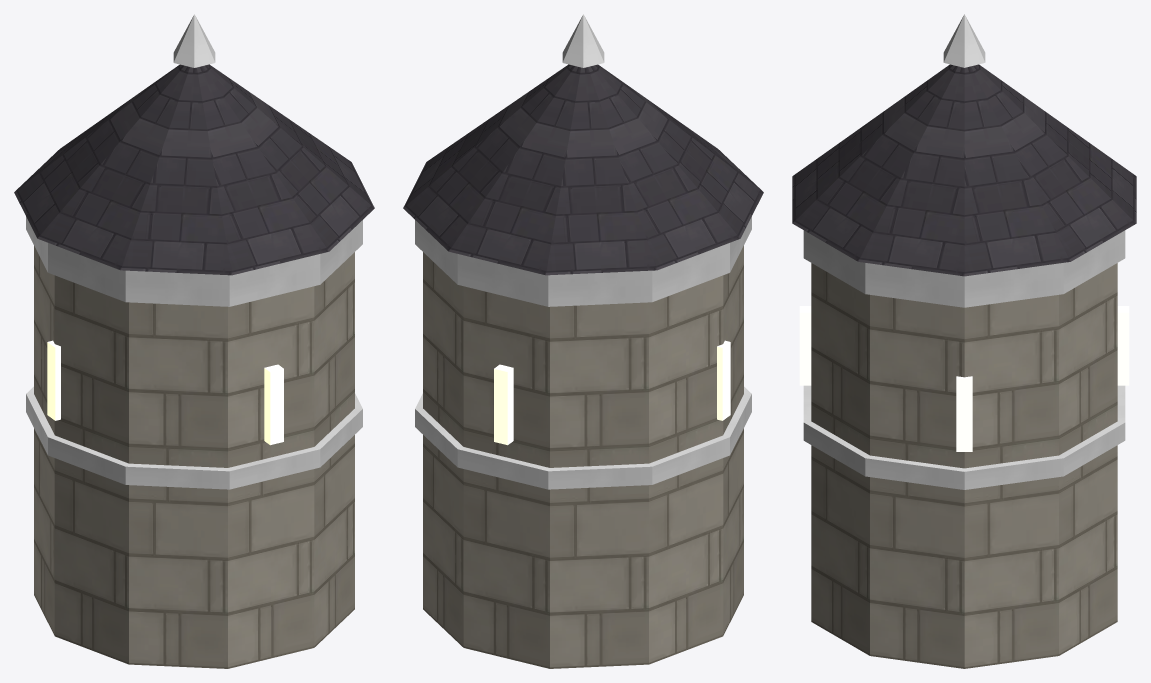
Rendered from tower.wallet.t5.glb.
The picture shows the model from 3 angles, left to right: view 1: azimuth 30°, elevation 25°; view 2: azimuth 150°, elevation 25°; view 3: azimuth 270°, elevation 25°; orthographic projection.
Parts seen in each view (by area): view 1: castle.tower.wallet.t5; view 2: castle.tower.wallet.t5; view 3: castle.tower.wallet.t5.
Part boxes in pixels (bbox=[...]): castle.tower.wallet.t5: bbox=[14, 14, 374, 668]; castle.tower.wallet.t5: bbox=[403, 14, 763, 668]; castle.tower.wallet.t5: bbox=[792, 14, 1136, 668].
Size of the model in its own units: 1.8 by 3.22 by 1.71.
4 materials, 3 textured.
